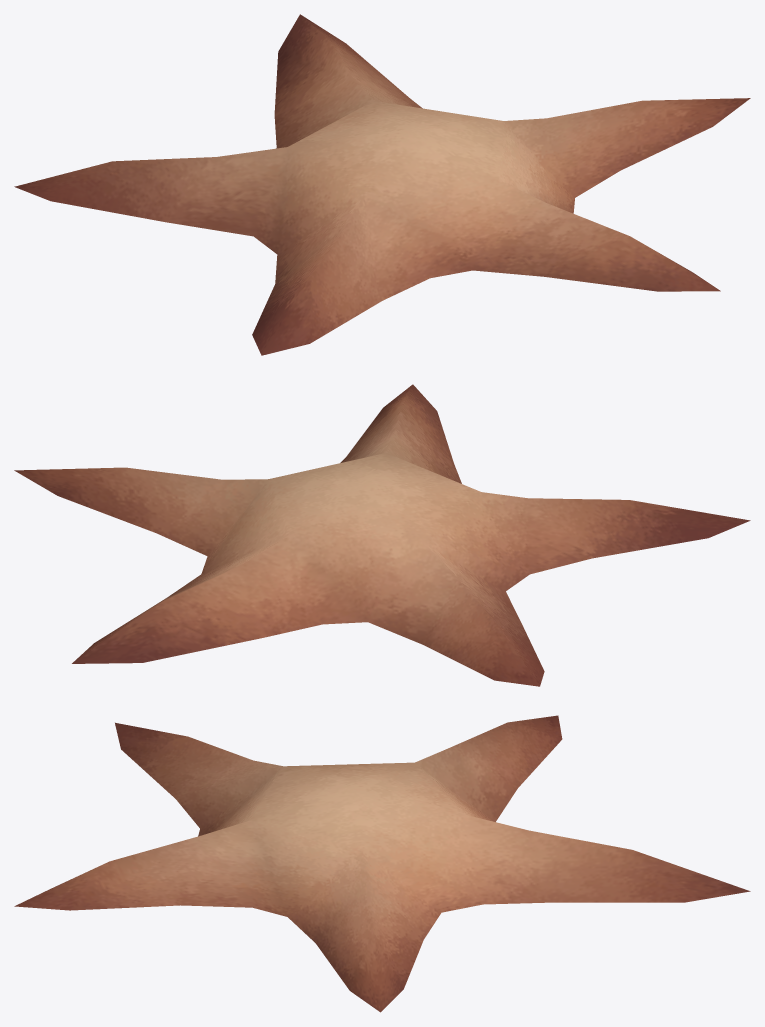
File: Starfish_Salmon.fbx
3 renders of one model, top to bottom at view 1: azimuth 30°, elevation 25°; view 2: azimuth 150°, elevation 25°; view 3: azimuth 270°, elevation 25°, orthographic. The views are drawn at different scales.
Visible parts, largest first — view 1: Starfish Salmon Top.001; view 2: Starfish Salmon Top.001; view 3: Starfish Salmon Top.001.
Part boxes in pixels (<box>): Starfish Salmon Top.001: <box>14,14,750,355</box>; Starfish Salmon Top.001: <box>14,384,750,686</box>; Starfish Salmon Top.001: <box>14,715,750,1012</box>.
Size of the model in its own units: 31.8 by 3.37 by 33.3.
